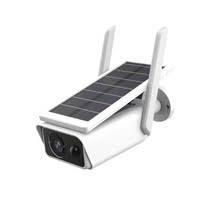tutu: (38, 73, 188, 165)
